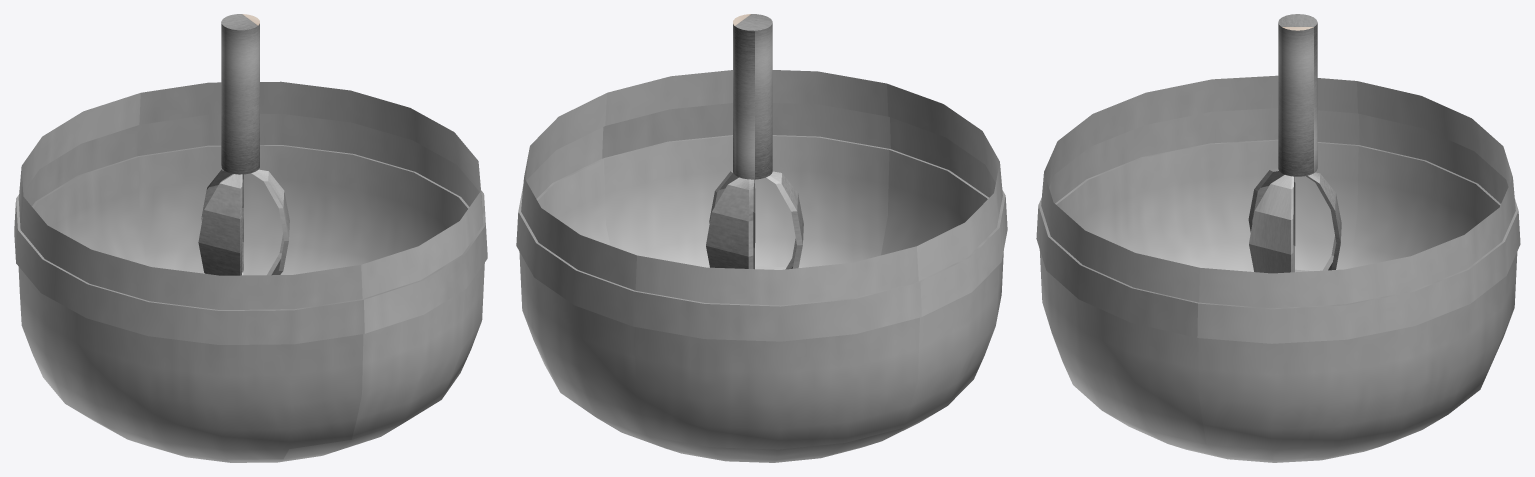
File: PlatilloBatidora.obj
3 views of the same model, side by side, from view 1: azimuth 30°, elevation 25°; view 2: azimuth 150°, elevation 25°; view 3: azimuth 270°, elevation 25° (orthographic). The views are drawn at different scales.
Visible parts, largest first — view 1: PlatilloBatidora; view 2: PlatilloBatidora; view 3: PlatilloBatidora.
Boxes of the visible parts, <box> form: PlatilloBatidora: <box>14,14,487,462</box>; PlatilloBatidora: <box>516,14,1007,462</box>; PlatilloBatidora: <box>1036,14,1520,462</box>.
Size of the model in its own units: 3.4 by 3.1 by 3.4.
2 materials, 2 textured.
